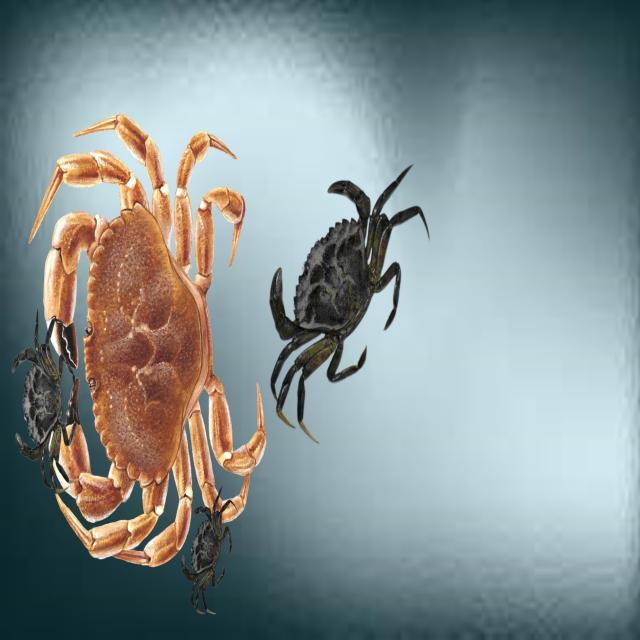European_Green_Crab: (228, 108, 454, 461), (6, 301, 83, 500), (172, 474, 244, 623)
